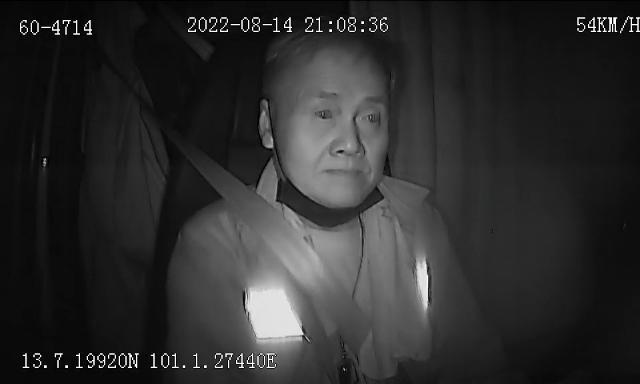SafeDriving: (354, 99, 388, 132), (306, 98, 342, 128)
Seatbelt: (172, 137, 378, 384)
